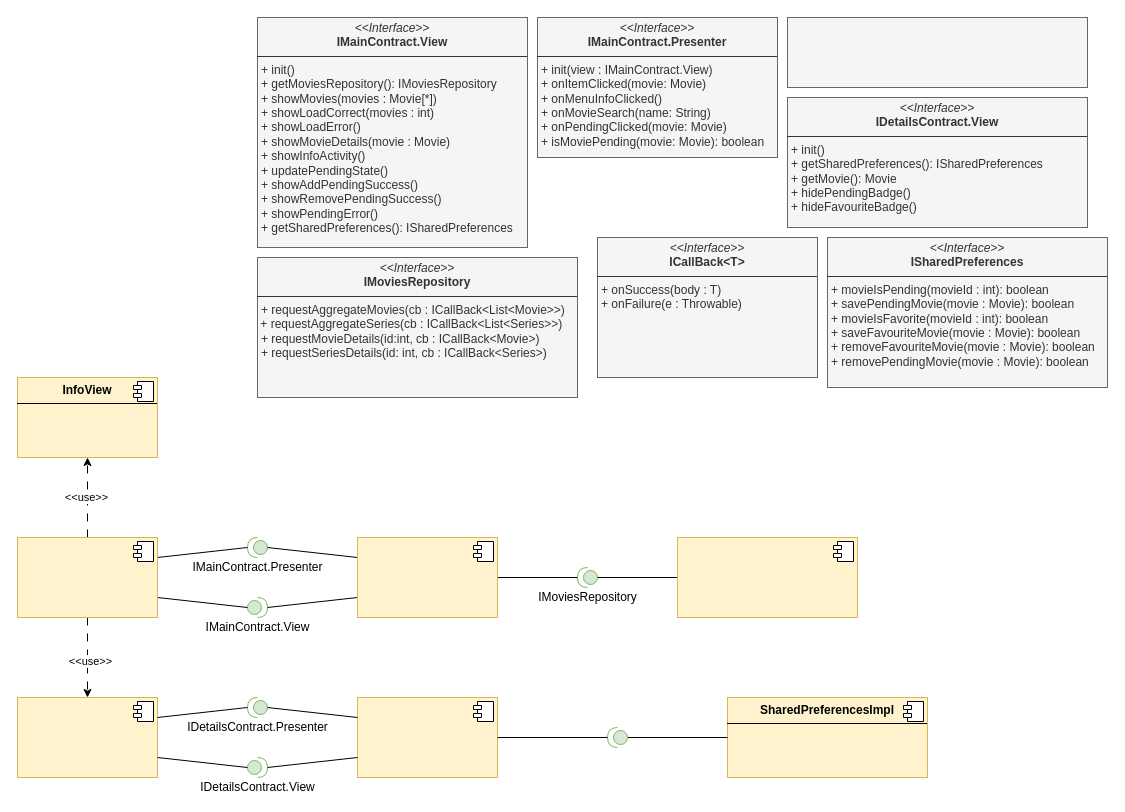
Image size: 1125x812. Some labels were removed from this diagram. Here are the shapes that lost their labels. From the top down, the box of each, then its label:
(786, 16, 1088, 88): <<Interface>> IDetailsContract.Presenter + init(view : IDetailsContract.View)
(16, 536, 158, 618): MainView
(356, 536, 498, 618): MainPresenter - load()
(676, 536, 858, 618): MoviesRepository
(16, 696, 158, 778): DetailsView
(356, 696, 498, 778): DetailsPresenter
(606, 726, 628, 748): ISharedPreferences
